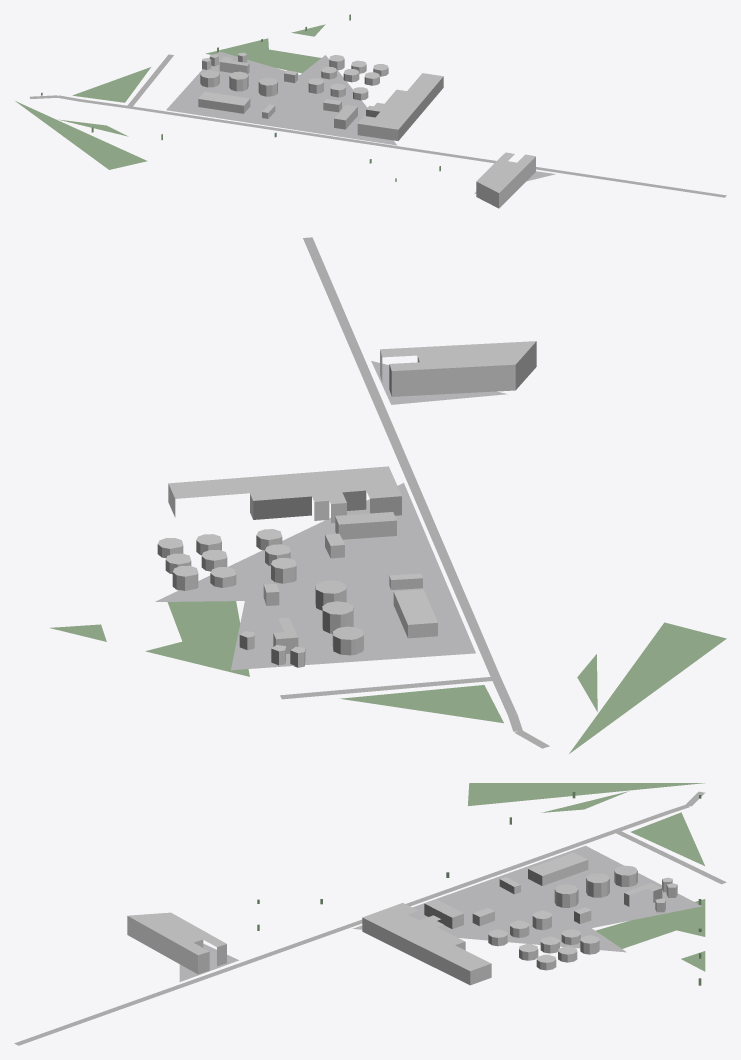
3 renders of one model, top to bottom at view 1: azimuth 30°, elevation 25°; view 2: azimuth 150°, elevation 25°; view 3: azimuth 270°, elevation 25°, orthographic. The views are drawn at different scales.
Size of the model in its own units: 594 by 21.5 by 678.
